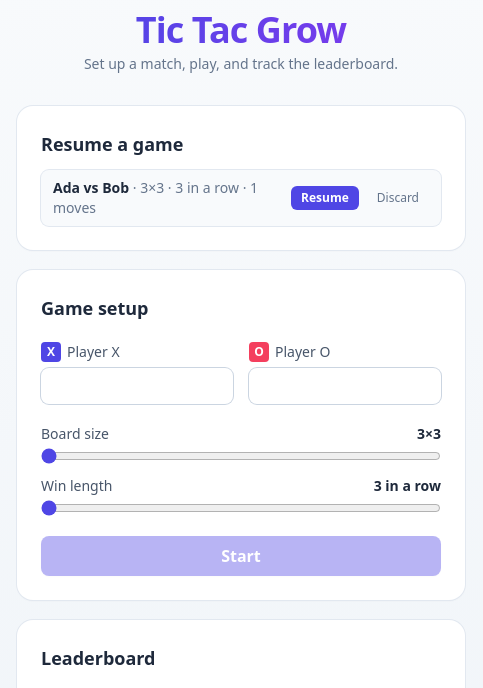
it: Main — ongoing games › discards a saved game
The width and height of the screenshot is (483, 688).
Click the button "Discard" at (398, 198), box [367,186,429,210]
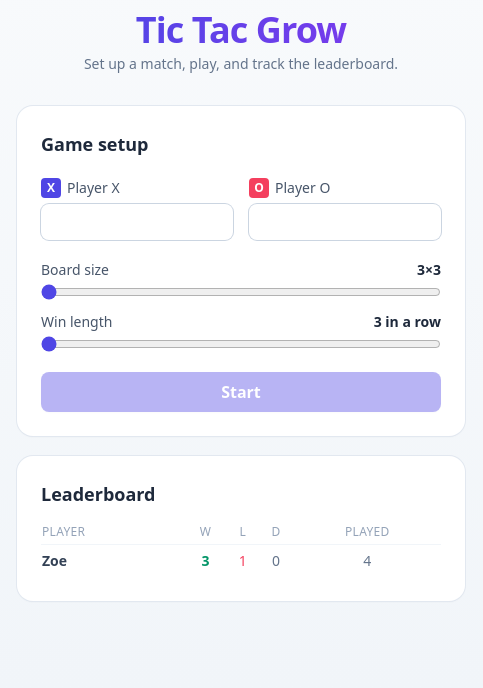
Check: the heading "Resume" is gone
